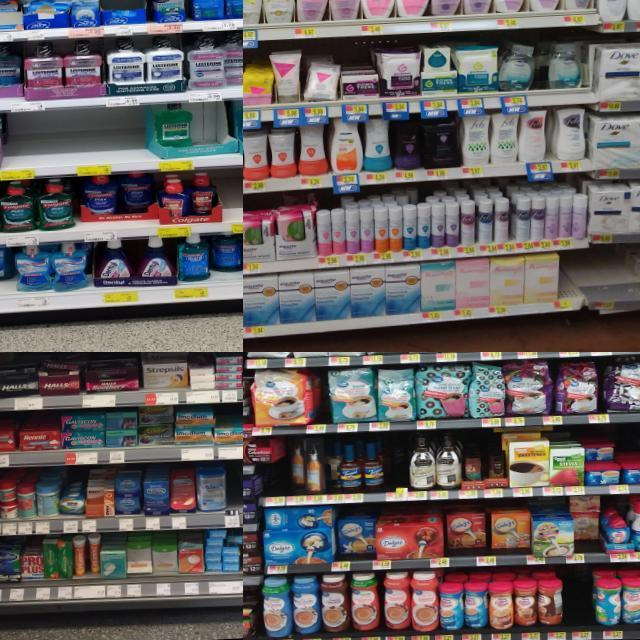Imprecise: (442, 508, 536, 559), (329, 510, 377, 564), (572, 494, 606, 554), (208, 230, 244, 282), (116, 170, 154, 216), (284, 442, 305, 492), (0, 247, 18, 295)
